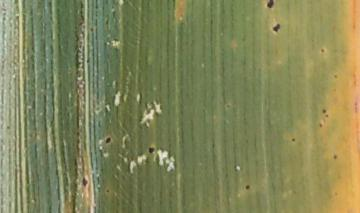tarspot: (271, 22, 281, 35), (80, 175, 89, 189), (264, 1, 275, 11), (146, 145, 155, 157), (103, 135, 112, 146), (318, 46, 326, 56), (320, 106, 328, 115), (332, 72, 339, 82), (243, 183, 251, 191), (331, 153, 339, 161), (317, 122, 325, 129), (89, 25, 95, 34), (104, 187, 111, 194), (290, 136, 296, 144), (85, 58, 91, 66)
